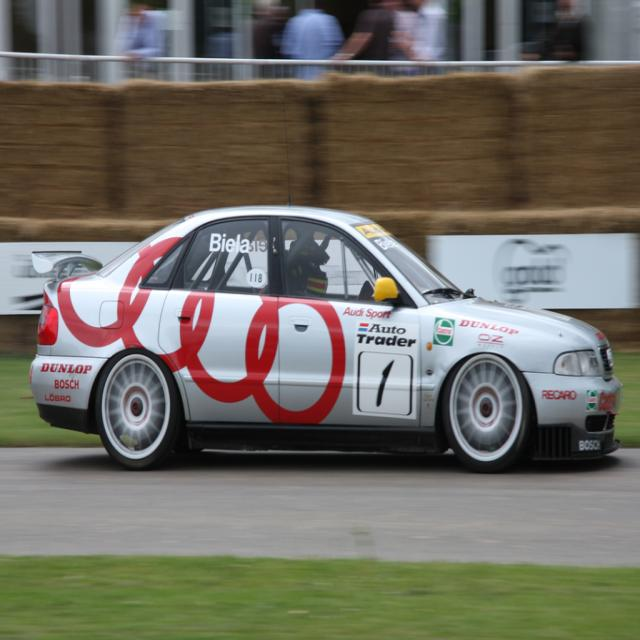car: (25, 206, 617, 485)
